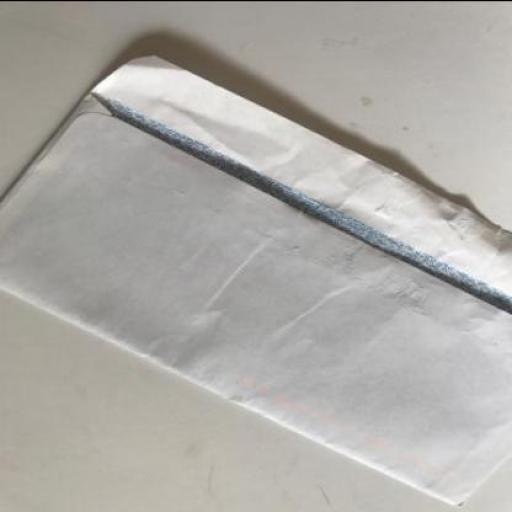paper: (1, 54, 511, 507)
